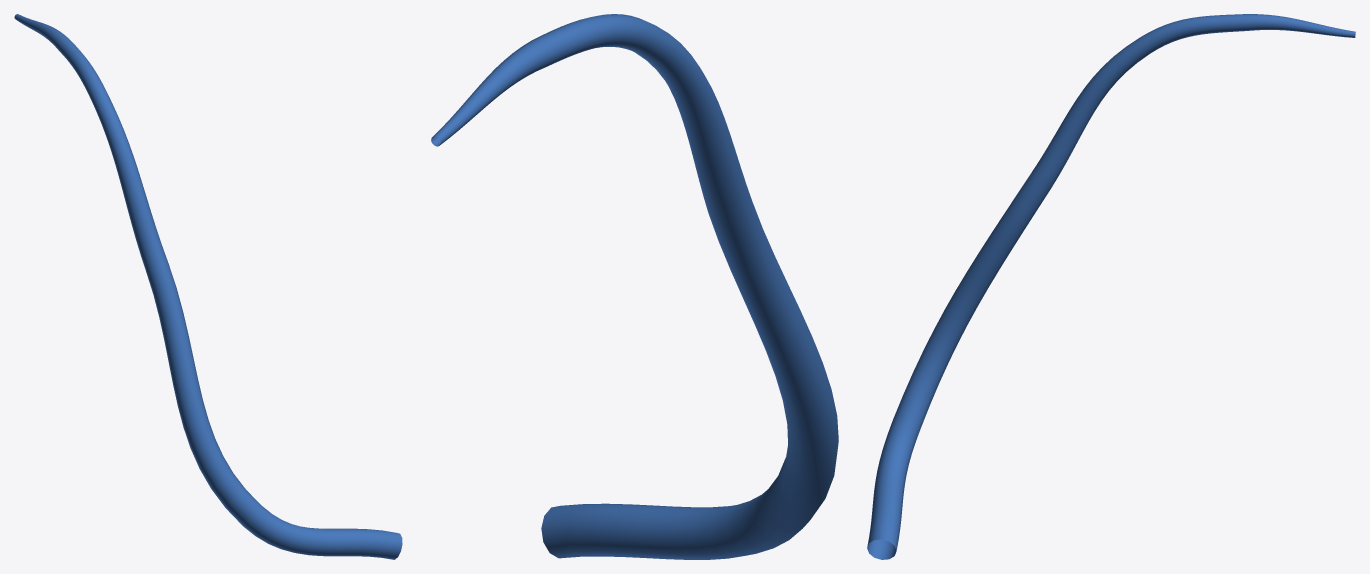
3 renders of one model, left to right at view 1: azimuth 30°, elevation 25°; view 2: azimuth 150°, elevation 25°; view 3: azimuth 270°, elevation 25°, orthographic. The views are drawn at different scales.
Visible parts, largest first — view 1: 左侧骶外侧静脉; view 2: 左侧骶外侧静脉; view 3: 左侧骶外侧静脉.
Boxes of the visible parts, bbox=[...] form: 左侧骶外侧静脉: bbox=[14, 14, 402, 559]; 左侧骶外侧静脉: bbox=[431, 14, 838, 559]; 左侧骶外侧静脉: bbox=[867, 14, 1355, 559].
Bounding box in the file's own units: 0.0311 × 0.0708 × 0.0676.
